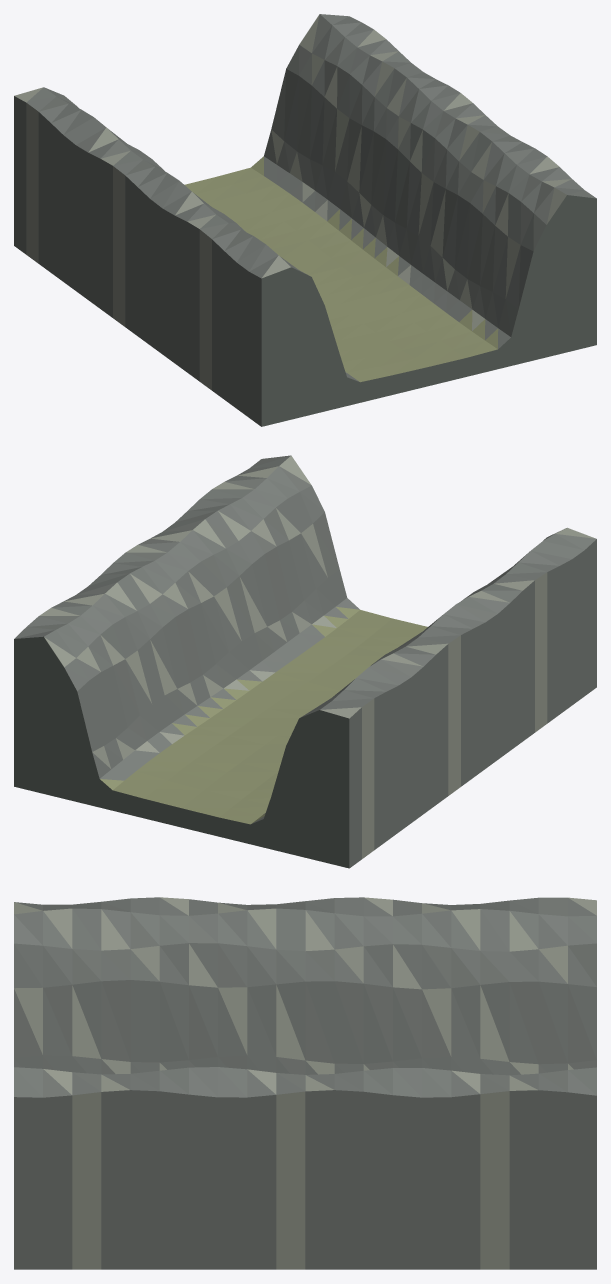
3 views of the same model, one above another, from view 1: azimuth 30°, elevation 25°; view 2: azimuth 150°, elevation 25°; view 3: azimuth 270°, elevation 25° (orthographic). The views are drawn at different scales.
Parts seen in each view (by area): view 1: broad_floor_steep_parallel_walls_closed_cutaway; view 2: broad_floor_steep_parallel_walls_closed_cutaway; view 3: broad_floor_steep_parallel_walls_closed_cutaway.
Boxes of the visible parts, bbox=[...] form: broad_floor_steep_parallel_walls_closed_cutaway: bbox=[14, 14, 596, 426]; broad_floor_steep_parallel_walls_closed_cutaway: bbox=[14, 455, 596, 868]; broad_floor_steep_parallel_walls_closed_cutaway: bbox=[14, 897, 596, 1269].
Bounding box in the file's own units: 18 × 8.07 × 23.
